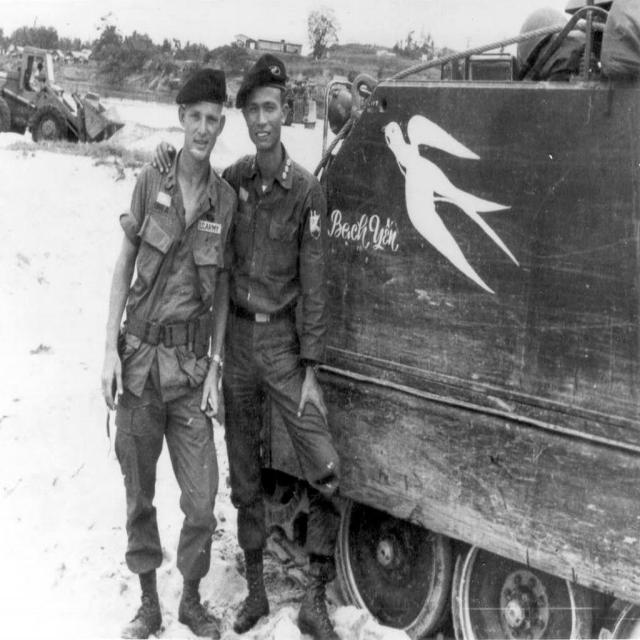tank: (215, 0, 640, 639)
